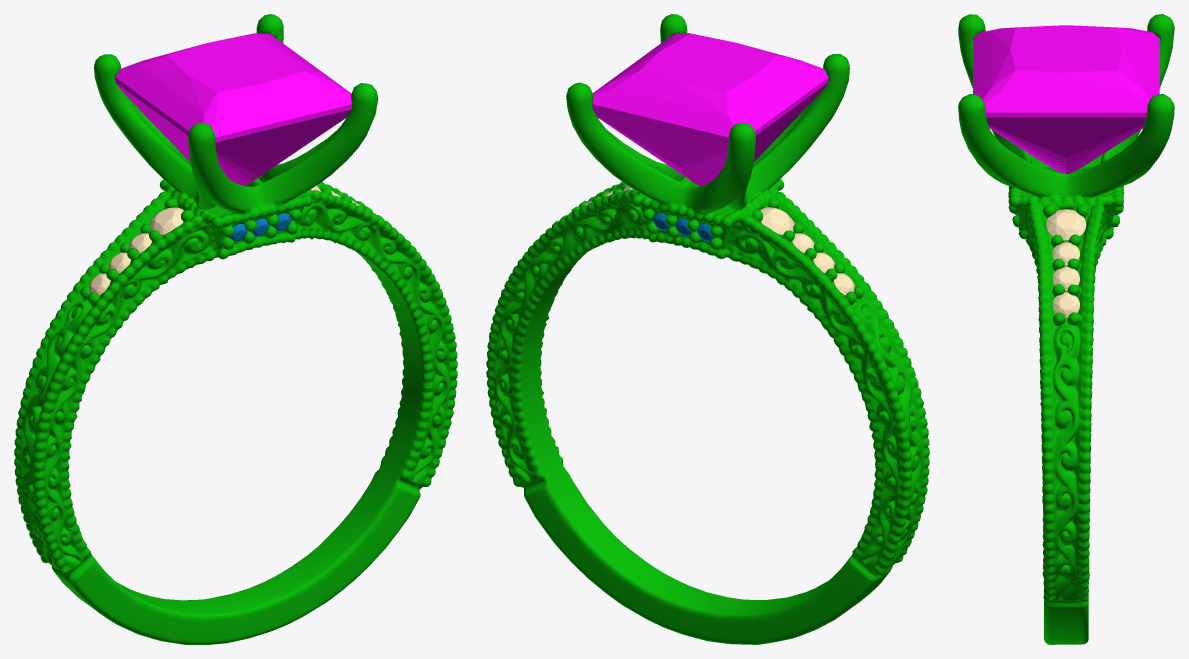
Rendered from BE132D_PR_200ct_RENDER.glb.
3 renders of one model, left to right at view 1: azimuth 30°, elevation 25°; view 2: azimuth 150°, elevation 25°; view 3: azimuth 270°, elevation 25°, orthographic.
Parts seen in each view (by area): view 1: Metal 01, CS_Diamond_Princess, Diamond_Round_Gem_SH; view 2: Metal 01, CS_Diamond_Princess, Diamond_Round_Gem_SH; view 3: Metal 01, CS_Diamond_Princess, Diamond_Round_Gem_SH.001, Diamond_Round_Gem_SH.007, Diamond_Round_Gem_SH.006, Diamond_Round_Gem_SH.005.
Boxes of the visible parts, left/top/right/bottom form: Metal 01: left=14, top=14, right=457, bottom=644; CS_Diamond_Princess: left=115, top=33, right=351, bottom=185; Diamond_Round_Gem_SH: left=149, top=207, right=183, bottom=235; Metal 01: left=486, top=14, right=929, bottom=644; CS_Diamond_Princess: left=592, top=33, right=828, bottom=185; Diamond_Round_Gem_SH: left=760, top=207, right=794, bottom=235; Metal 01: left=958, top=14, right=1174, bottom=644; CS_Diamond_Princess: left=973, top=25, right=1159, bottom=173; Diamond_Round_Gem_SH.001: left=1046, top=209, right=1086, bottom=240; Diamond_Round_Gem_SH.007: left=1052, top=292, right=1079, bottom=318; Diamond_Round_Gem_SH.006: left=1052, top=266, right=1079, bottom=291; Diamond_Round_Gem_SH.005: left=1052, top=242, right=1079, bottom=265.
Bounding box in the file's own units: 19.82 × 25.43 × 8.71.
